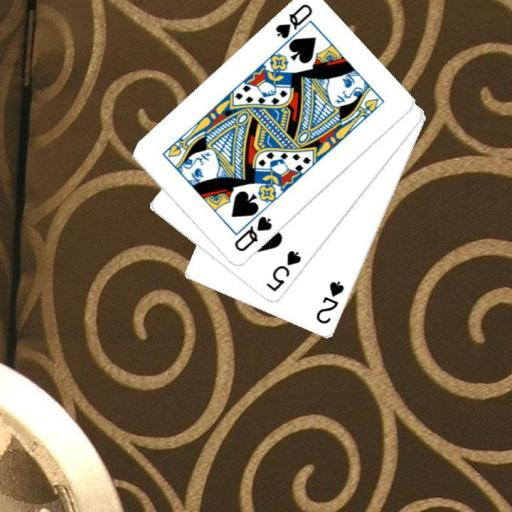2S: (313, 278, 345, 326)
5S: (263, 248, 303, 294)
QS: (231, 213, 274, 254), (272, 1, 314, 41)
